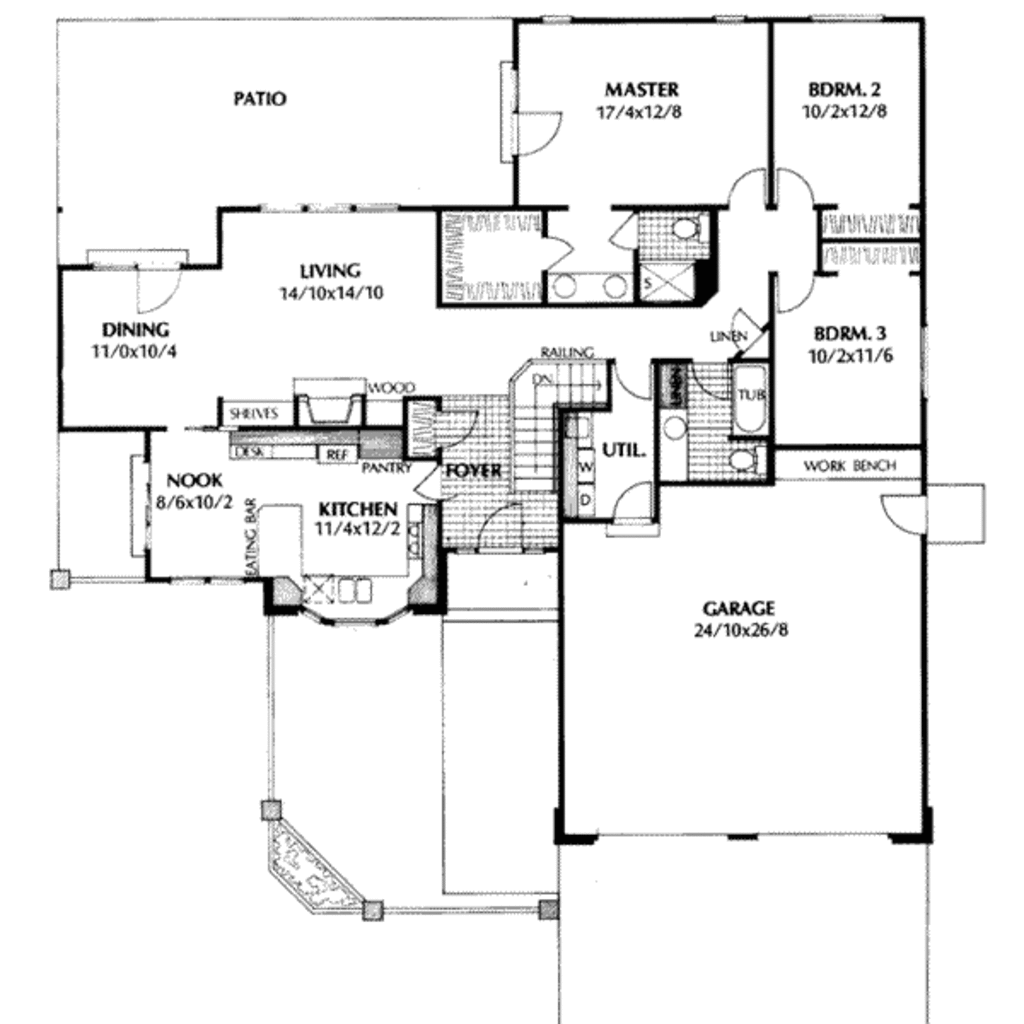door: (505, 102, 582, 170), (604, 467, 664, 541), (471, 491, 528, 557), (126, 256, 188, 316), (866, 484, 931, 541), (431, 405, 482, 457), (720, 157, 766, 208), (717, 308, 767, 354), (772, 160, 813, 216), (613, 354, 656, 407), (771, 265, 820, 311), (412, 459, 459, 503), (534, 230, 575, 270), (609, 211, 648, 251)
large_sink: (725, 438, 769, 478)
small_sink: (658, 405, 699, 486)
stairs: (493, 330, 621, 497)
tub: (732, 360, 772, 432)
twin_sink: (334, 573, 377, 608)
window: (304, 602, 421, 630), (167, 568, 256, 592), (809, 10, 893, 30), (528, 2, 583, 30), (710, 11, 752, 35)
